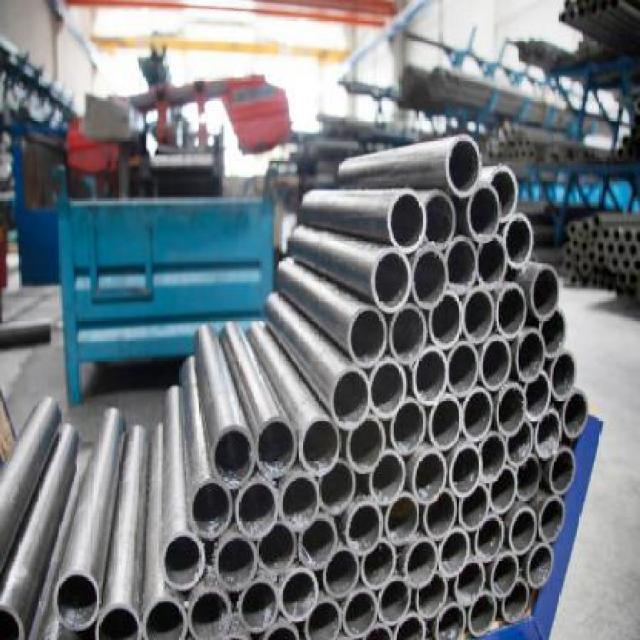pipe: (211, 425, 256, 490), (52, 571, 100, 631), (188, 477, 233, 539), (234, 479, 279, 539), (162, 529, 205, 591), (373, 249, 413, 314), (331, 366, 371, 431), (256, 416, 297, 479), (300, 416, 342, 476), (278, 472, 320, 531), (388, 189, 426, 254), (346, 414, 386, 474), (348, 305, 386, 368), (390, 303, 428, 365), (216, 536, 257, 593), (445, 136, 482, 199), (411, 246, 448, 309), (188, 588, 233, 639), (369, 358, 406, 420), (297, 514, 337, 571), (237, 579, 279, 633), (466, 185, 502, 245), (411, 348, 448, 406), (389, 399, 426, 456), (257, 522, 296, 576), (280, 568, 319, 622), (319, 458, 356, 514), (346, 500, 383, 556), (422, 191, 456, 251), (428, 291, 462, 351), (368, 450, 405, 505), (428, 394, 463, 451), (142, 596, 188, 639), (360, 538, 397, 591), (323, 546, 360, 599), (445, 237, 478, 296), (411, 451, 447, 505), (385, 492, 421, 546), (461, 286, 494, 343), (478, 336, 511, 393), (446, 340, 479, 397), (449, 443, 482, 499), (341, 588, 377, 639), (460, 388, 493, 443), (94, 603, 143, 640), (423, 488, 457, 541), (529, 265, 560, 322), (496, 283, 527, 340), (403, 537, 437, 588), (490, 165, 519, 224), (516, 328, 547, 383), (496, 383, 527, 437), (377, 577, 411, 626), (503, 213, 532, 270), (477, 234, 506, 290), (305, 597, 343, 639), (459, 482, 490, 533), (439, 528, 470, 579), (474, 514, 505, 563), (415, 573, 448, 619), (539, 306, 567, 359), (549, 351, 577, 402), (523, 371, 551, 422), (534, 409, 562, 460), (479, 432, 507, 483), (488, 465, 517, 514), (454, 560, 485, 605), (505, 420, 533, 468), (509, 508, 537, 556), (490, 553, 519, 599), (468, 591, 497, 637), (526, 543, 554, 589), (434, 600, 467, 639), (562, 390, 588, 439), (502, 579, 530, 624), (550, 448, 576, 496), (539, 495, 565, 543), (516, 454, 542, 500), (394, 612, 427, 640)
